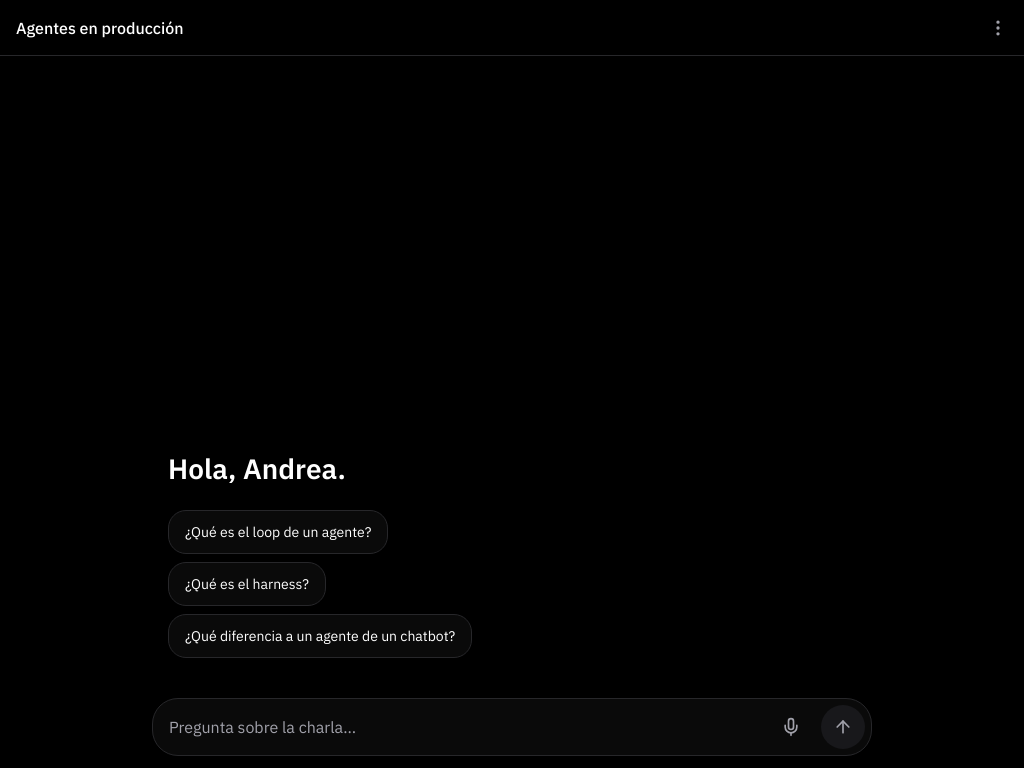
Test: Chat: streaming e indicadores › detener corta la petición y conserva el texto parcial
The image size is (1024, 768).
Type "Explícame todo" into the text box with placeholder "Pregunta sobre la charla…" at (465, 727), box [169, 707, 761, 747]
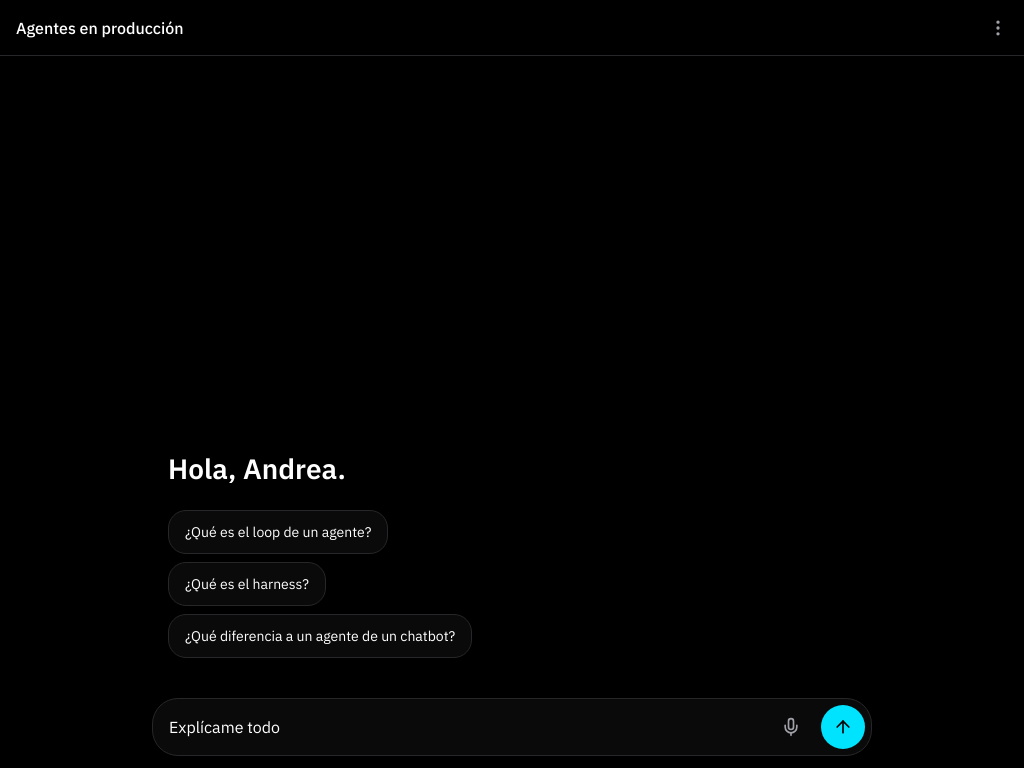
Click the button named "Enviar" at (843, 727), box [821, 705, 865, 749]
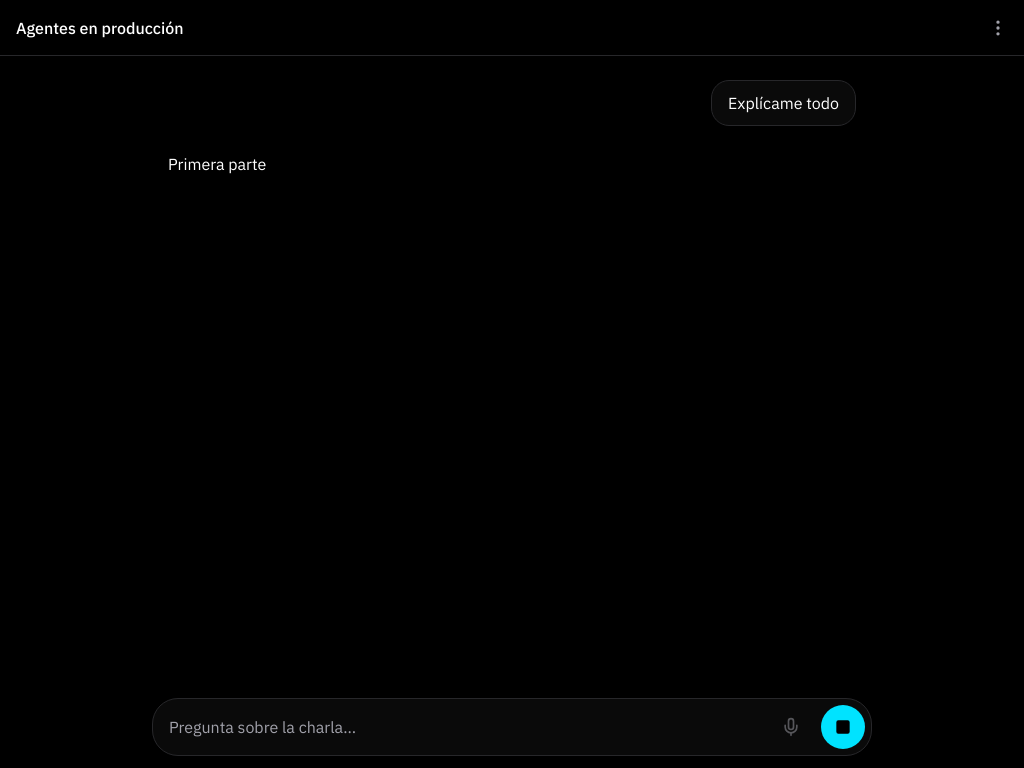
Check: the text "Primera parte" is shown, box [168, 154, 266, 174]
Click the button named "Detener" at (843, 727), box [821, 705, 865, 749]
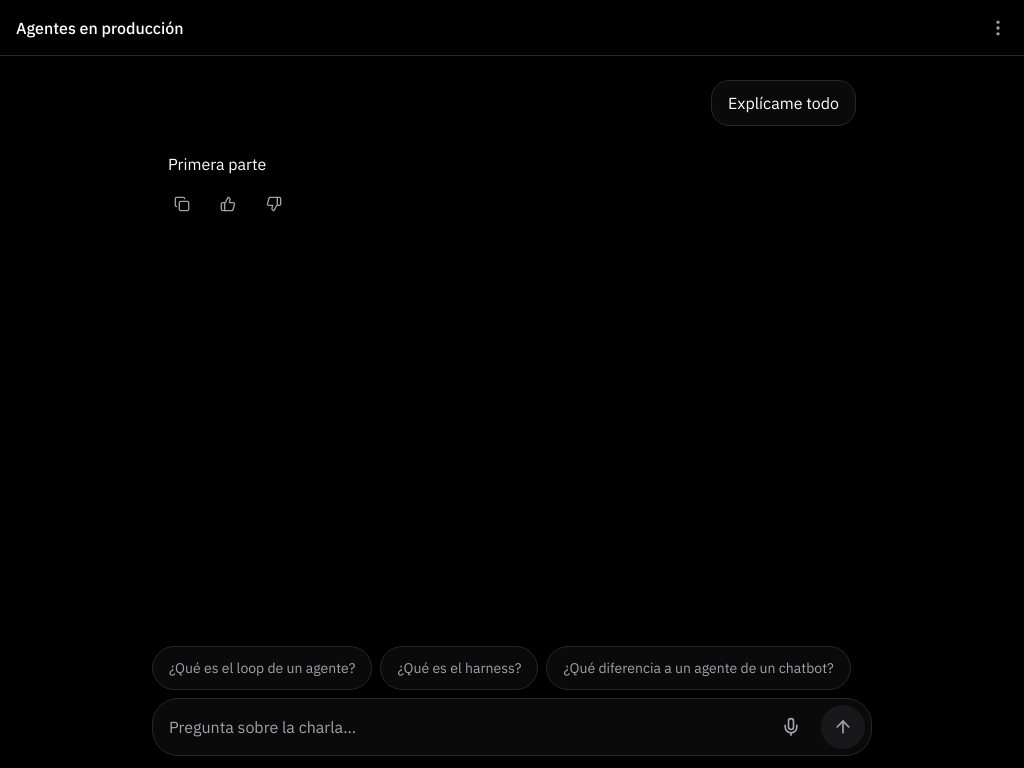
Check: the text "Primera parte" is shown, box [168, 154, 266, 174]
Check: the button named "Enviar" is shown, box [821, 705, 865, 749]
